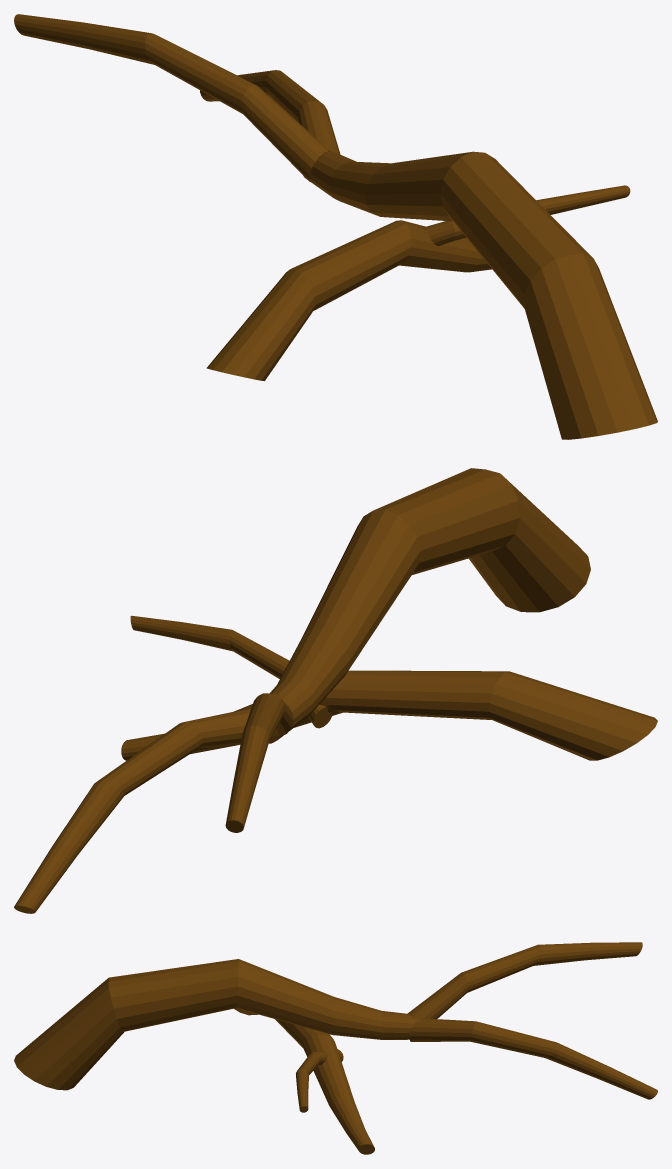
File: Roots_1.fbx
3 renders of one model, top to bottom at view 1: azimuth 30°, elevation 25°; view 2: azimuth 150°, elevation 25°; view 3: azimuth 270°, elevation 25°, orthographic. The views are drawn at different scales.
Parts seen in each view (by area): view 1: Roots_1; view 2: Roots_1; view 3: Roots_1.
Part boxes in pixels (left/top/right/bottom): Roots_1: left=14, top=14, right=657, bottom=439; Roots_1: left=14, top=468, right=657, bottom=913; Roots_1: left=14, top=942, right=657, bottom=1154.
Bounding box in the file's own units: 382 × 168 × 685.
